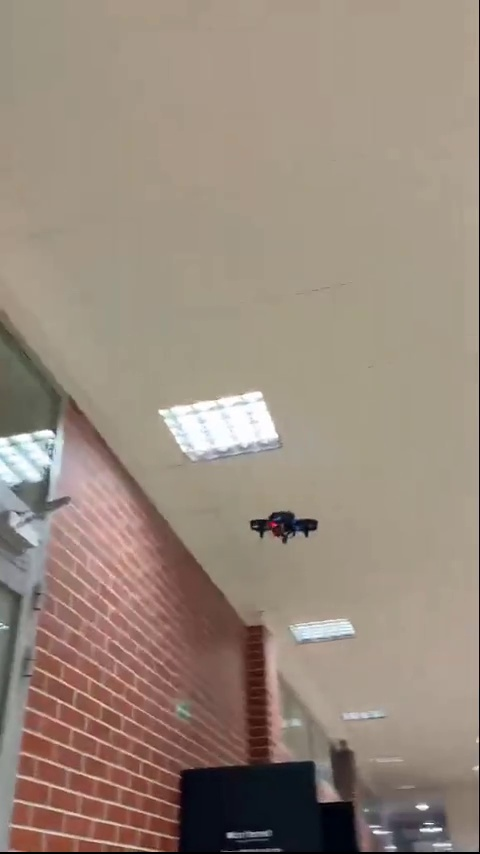drone: (249, 506, 319, 545)
